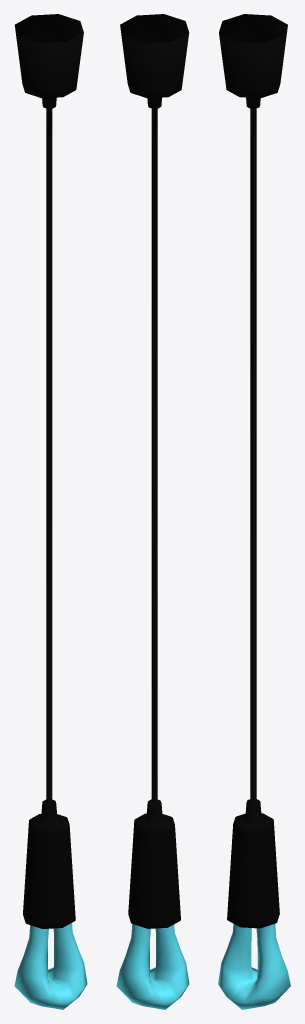
Rendered from SM_Pendantlight_006_A.FBX.
3 views of the same model, side by side, from view 1: azimuth 30°, elevation 25°; view 2: azimuth 210°, elevation 25°; view 3: azimuth 330°, elevation 25° (orthographic).
Visible parts, largest first — view 1: SM_Pendantlight_006_A; view 2: SM_Pendantlight_006_A; view 3: SM_Pendantlight_006_A.
Boxes of the visible parts, left/top/right/bottom form: SM_Pendantlight_006_A: left=14, top=14, right=87, bottom=1009; SM_Pendantlight_006_A: left=116, top=14, right=189, bottom=1009; SM_Pendantlight_006_A: left=218, top=14, right=290, bottom=1009.
Size of the model in its own units: 12.19 by 12.34 by 183.
